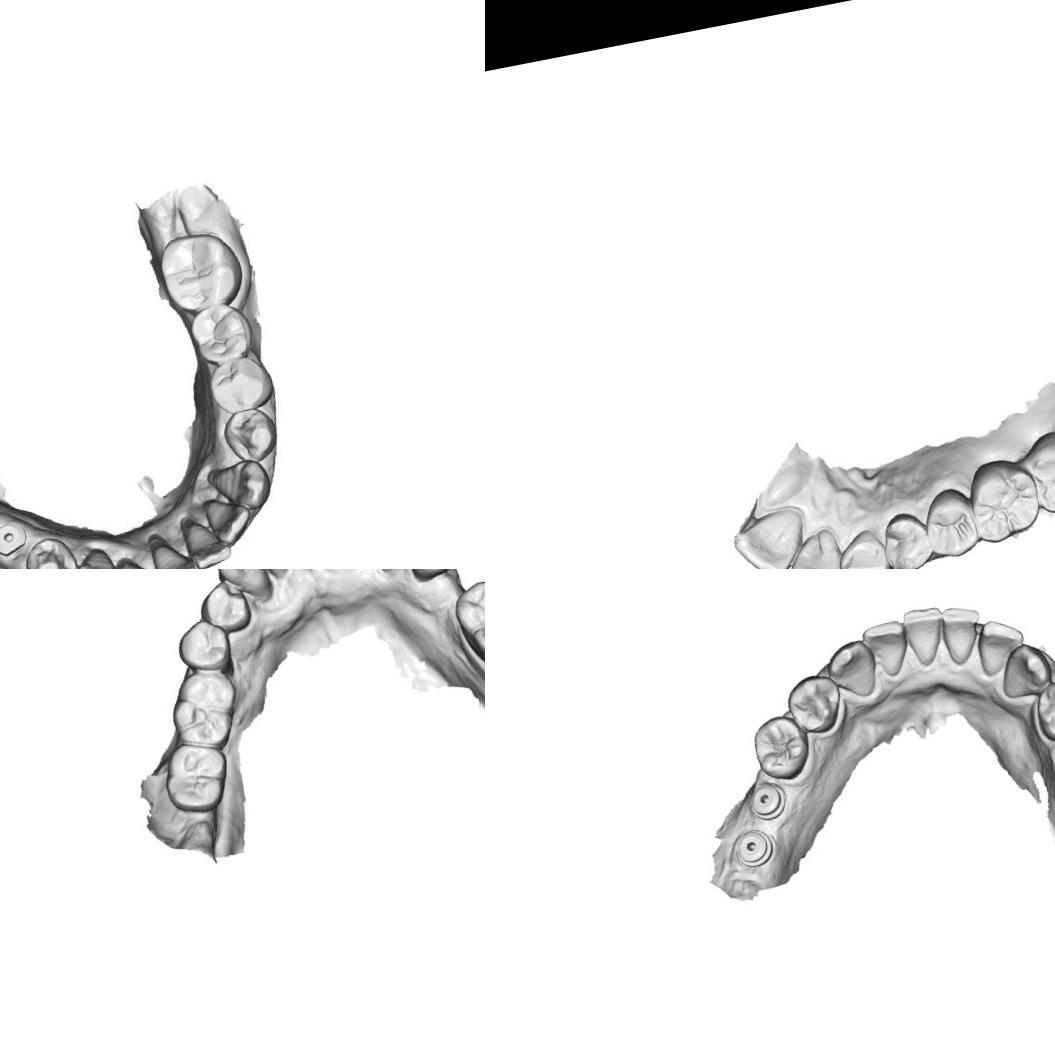canine: (993, 637, 1055, 705), (821, 636, 881, 704), (204, 456, 272, 514), (832, 523, 888, 569), (209, 569, 274, 608), (65, 544, 123, 569)
implant: (729, 824, 779, 870), (744, 778, 790, 824), (0, 518, 29, 560)
incisor: (857, 615, 919, 684), (732, 511, 805, 569), (971, 613, 1032, 680), (936, 600, 990, 669), (899, 602, 953, 670), (203, 492, 257, 548), (180, 512, 233, 569), (785, 531, 847, 569), (147, 529, 200, 569), (111, 550, 167, 569)
molar: (154, 222, 246, 318), (960, 448, 1044, 546), (162, 664, 246, 754), (157, 734, 235, 818), (1016, 420, 1055, 514), (449, 573, 485, 672)
premolar: (746, 708, 815, 785), (779, 667, 848, 741), (920, 482, 982, 564), (188, 299, 256, 369), (216, 402, 282, 468), (206, 354, 276, 415), (172, 614, 236, 678), (195, 574, 254, 637), (877, 506, 930, 569), (21, 534, 82, 569), (1027, 675, 1055, 748), (402, 569, 462, 583)
